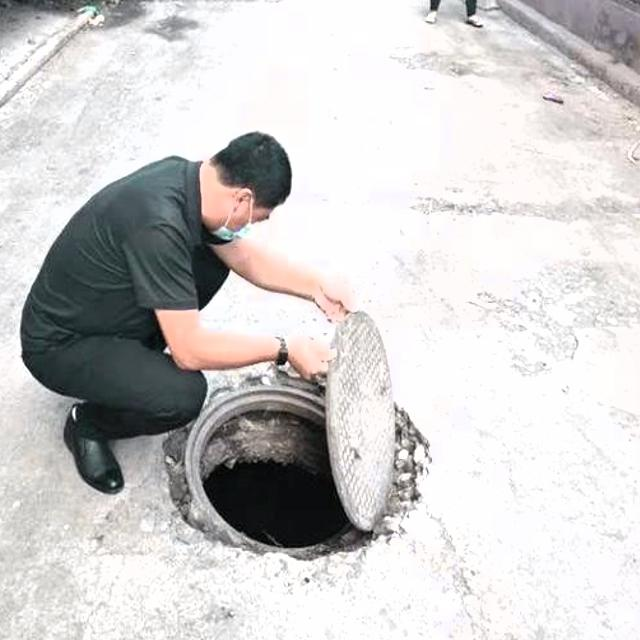circle: (114, 329, 453, 584)
